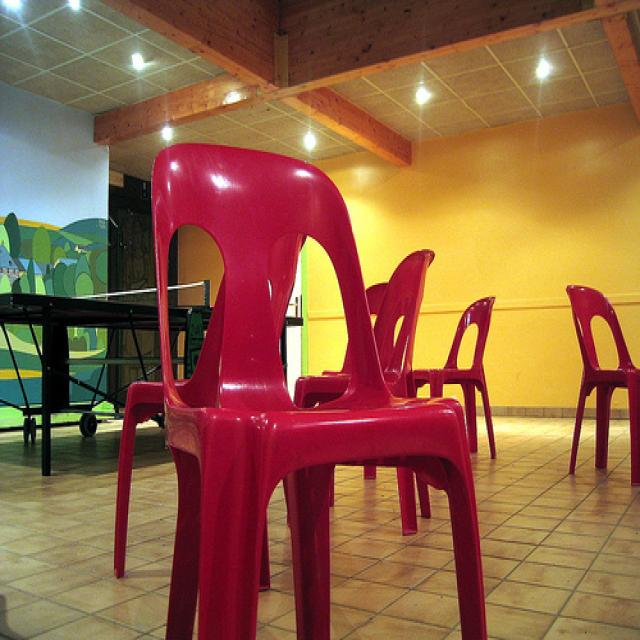chair: (152, 143, 487, 639), (112, 216, 312, 593), (287, 249, 437, 535), (564, 284, 640, 489), (412, 296, 498, 460), (322, 281, 390, 480)
